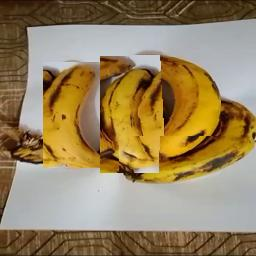Banana Semifresh: (128, 51, 221, 160), (43, 62, 119, 168), (100, 56, 160, 173), (119, 136, 256, 183)
